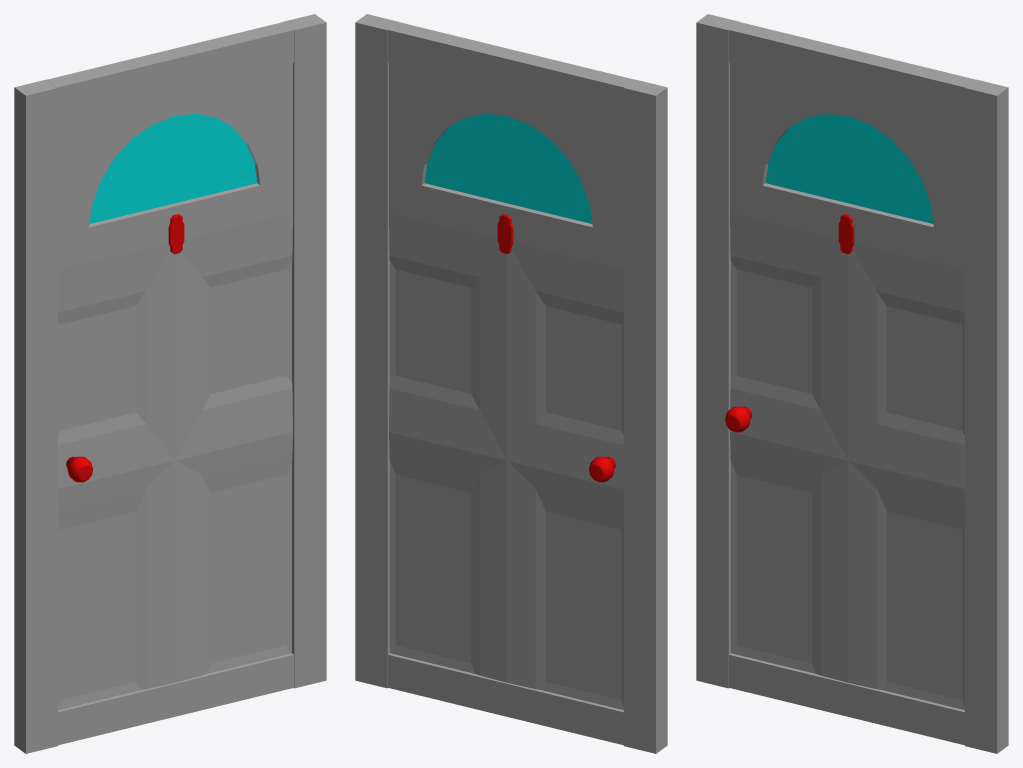
Rendered from Mesh_Door_06.FBX.
3 views of the same model, side by side, from view 1: azimuth 30°, elevation 25°; view 2: azimuth 150°, elevation 25°; view 3: azimuth 330°, elevation 25° (orthographic).
Visible parts, largest first — view 1: Mesh_Door_06; view 2: Mesh_Door_06; view 3: Mesh_Door_06.
Part boxes in pixels (bbox=[...]): Mesh_Door_06: bbox=[14, 14, 326, 753]; Mesh_Door_06: bbox=[355, 14, 667, 753]; Mesh_Door_06: bbox=[696, 14, 1008, 753].
Bounding box in the file's own units: 0.9409 × 1.97 × 0.1906.
